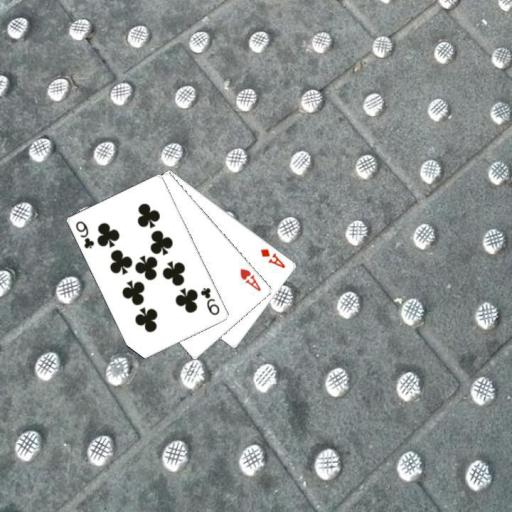9C: (198, 285, 221, 317), (73, 218, 96, 250)
AD: (258, 246, 288, 270)
AH: (237, 265, 263, 293)
